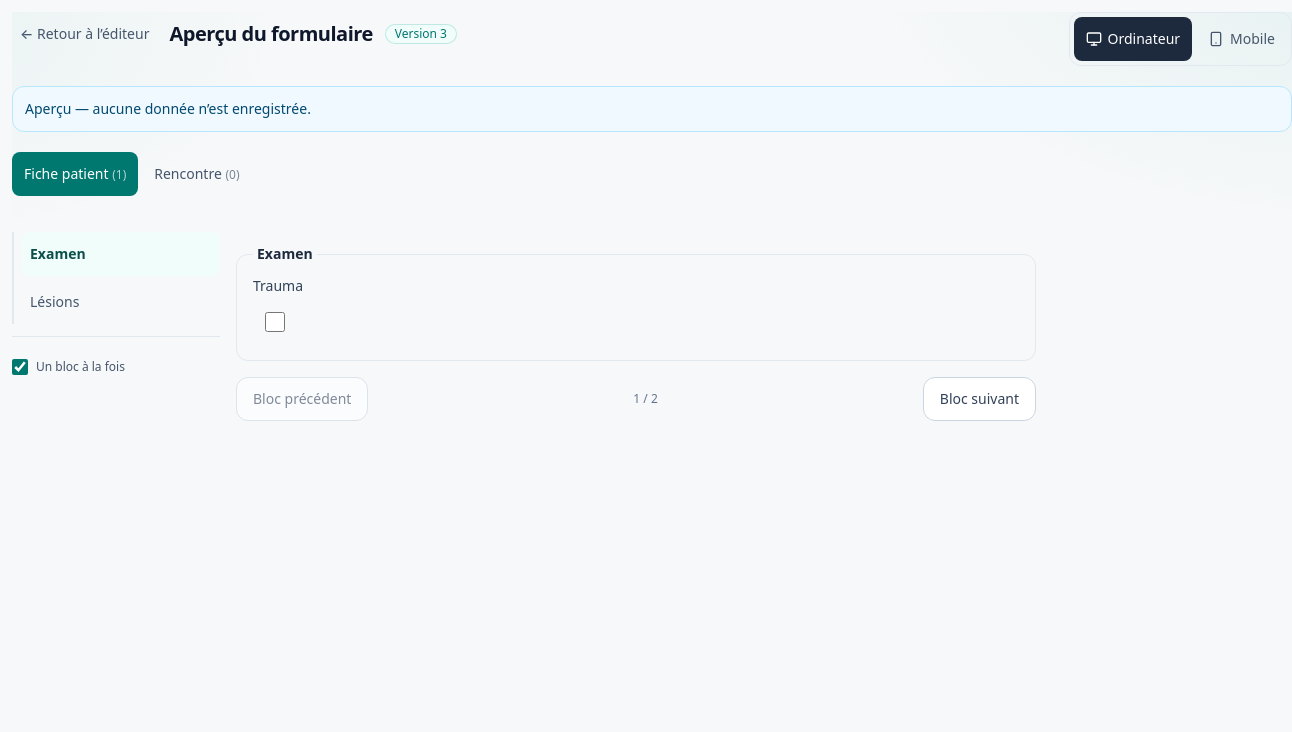
Test: FormPreview — contexte patient des occurrences (L74) › cocher le pilote permanent fait apparaître la colonne pilotée du groupe
Click the tab "Fiche patient (1)" at (75, 174), box [12,152,138,196]
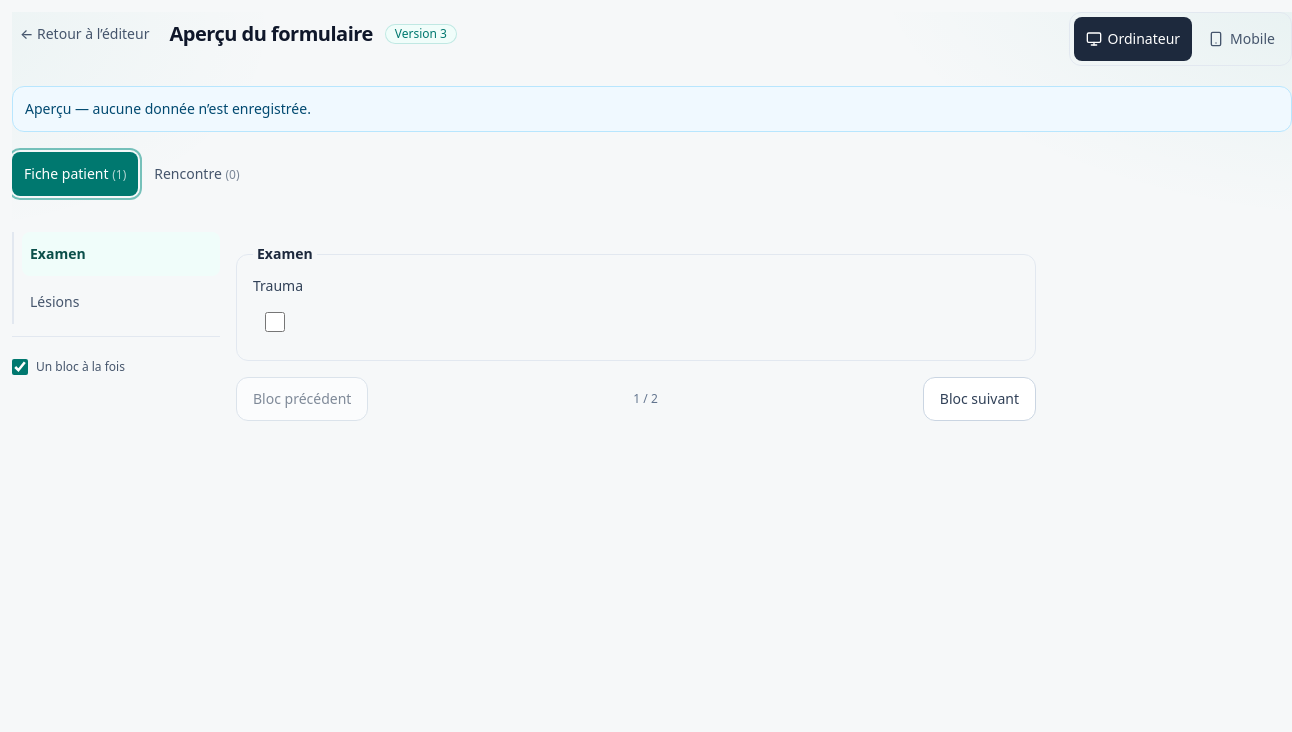
Click the button "Lésions" at (121, 302), box [22,280,220,324]
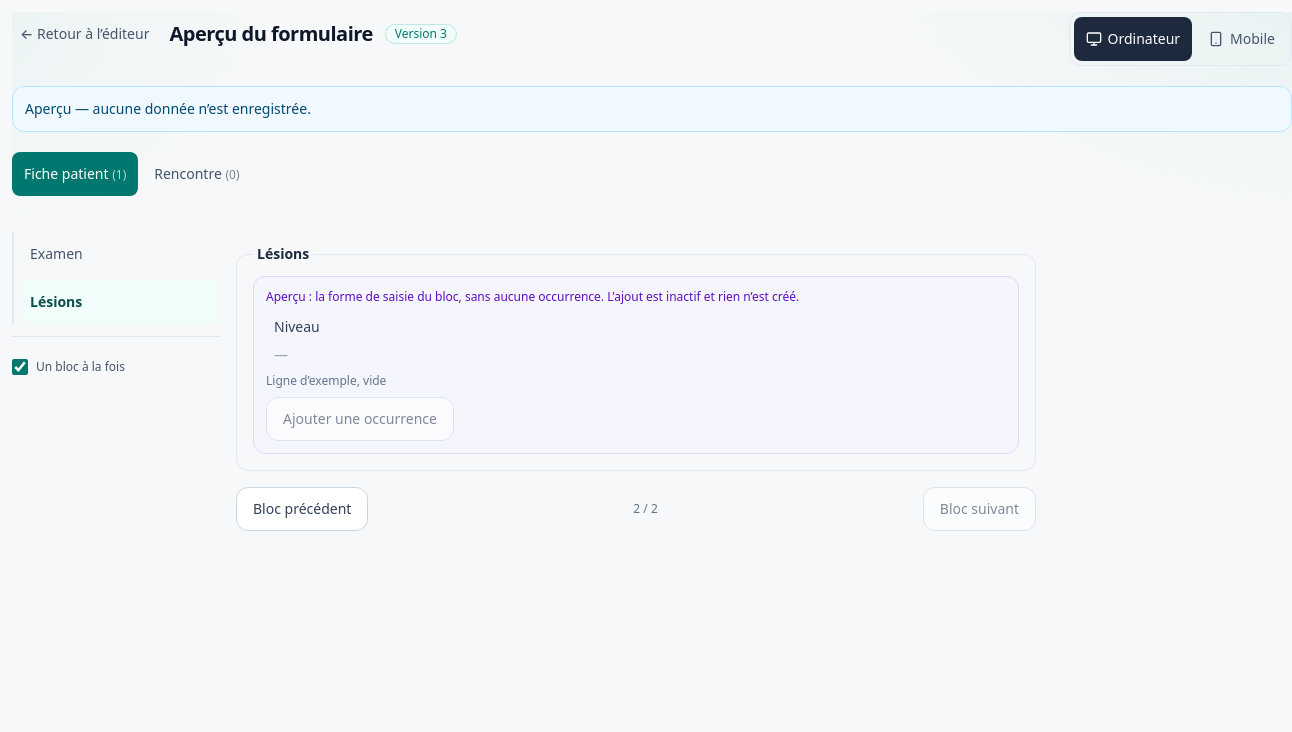
Expected: the column heading "Gradation AO" is not shown
Click the button "Examen" at (121, 254), box [22,232,220,276]
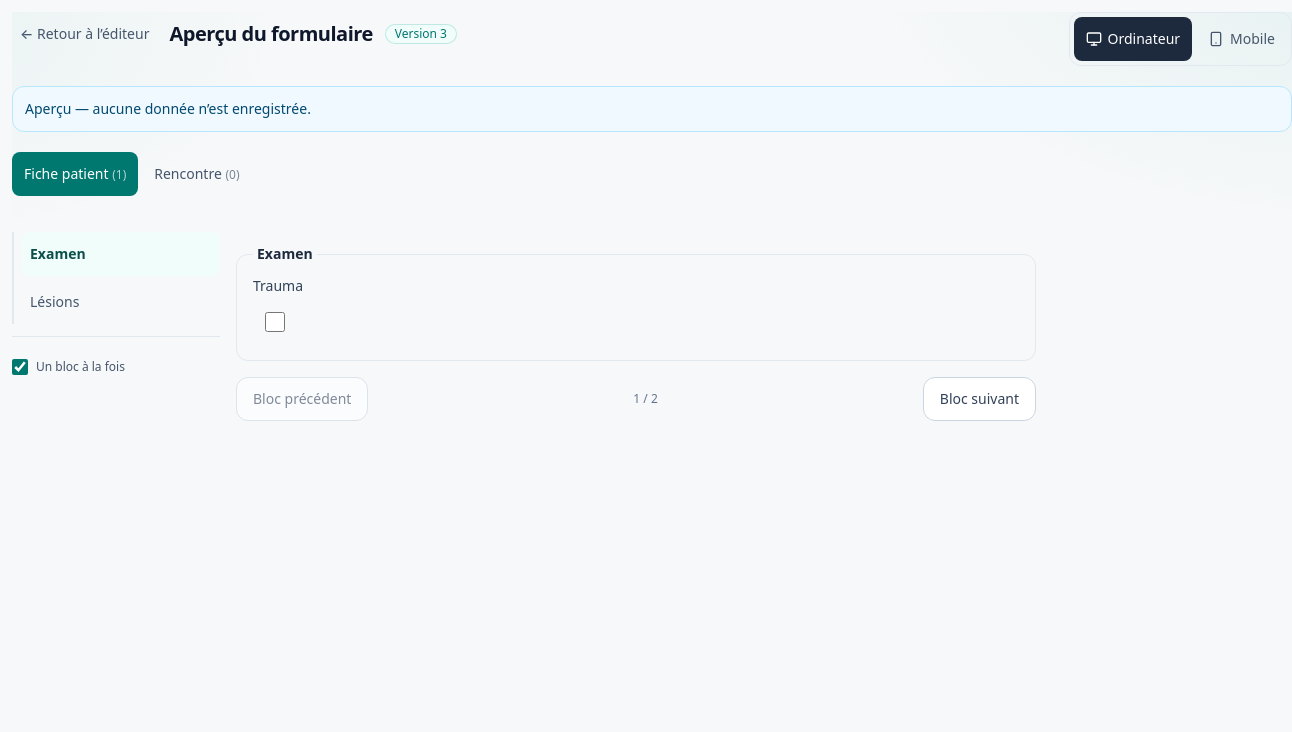
Click the checkbox named "Trauma" at (275, 322), box [265,312,285,332]
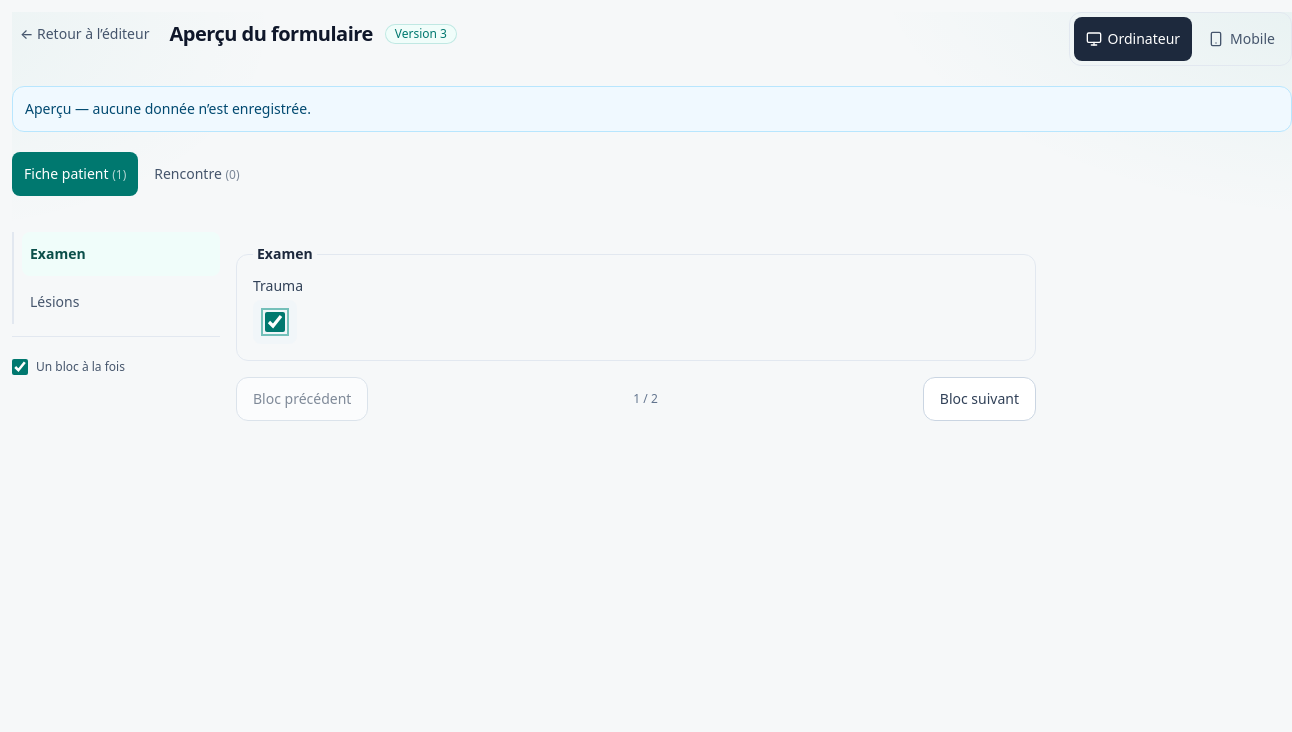
Click the button "Lésions" at (121, 302), box [22,280,220,324]
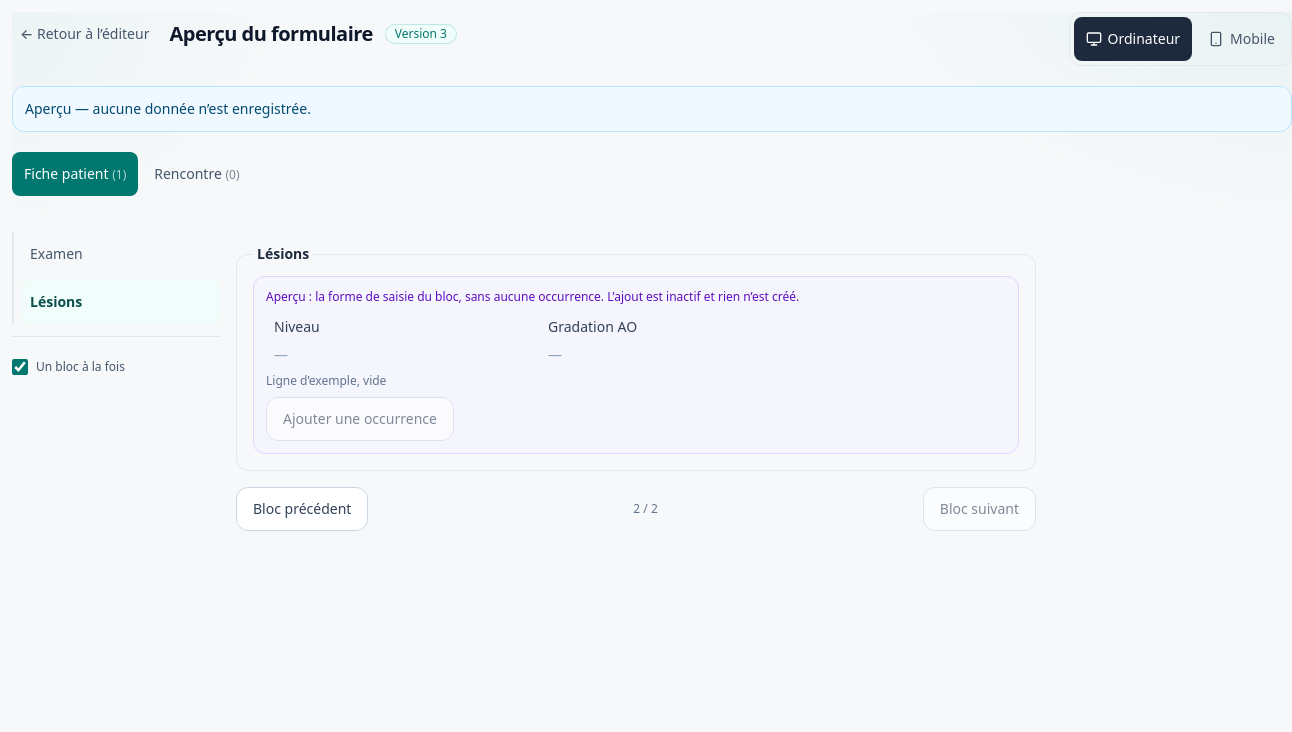
Expected: the column heading "Gradation AO" is shown, [540,313,1006,341]
